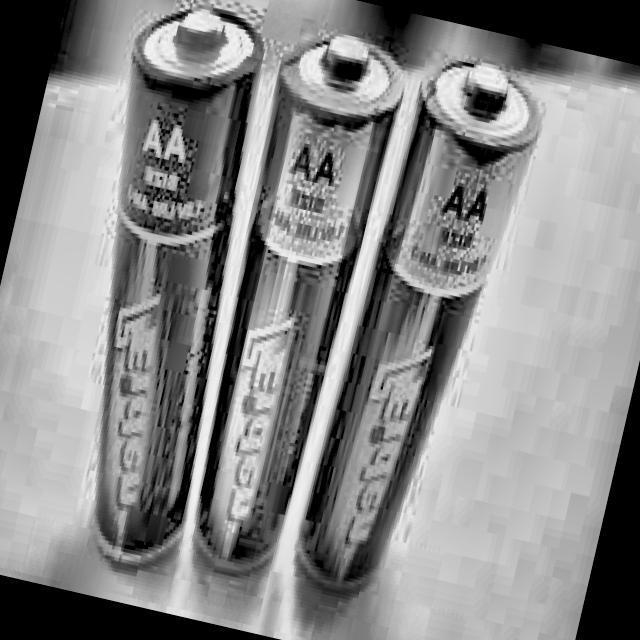Battery: (28, 0, 301, 553), (286, 48, 545, 602), (172, 19, 414, 568)
